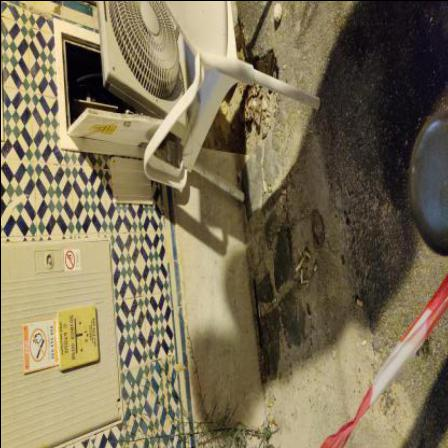Cigarette: (296, 257, 305, 273), (258, 304, 262, 319), (245, 47, 249, 61), (306, 251, 312, 260), (358, 300, 364, 308), (361, 339, 367, 347), (282, 188, 287, 196), (302, 270, 304, 285), (264, 180, 266, 193), (267, 111, 271, 117)
Plastic bag - wrapper: (250, 98, 263, 128)
